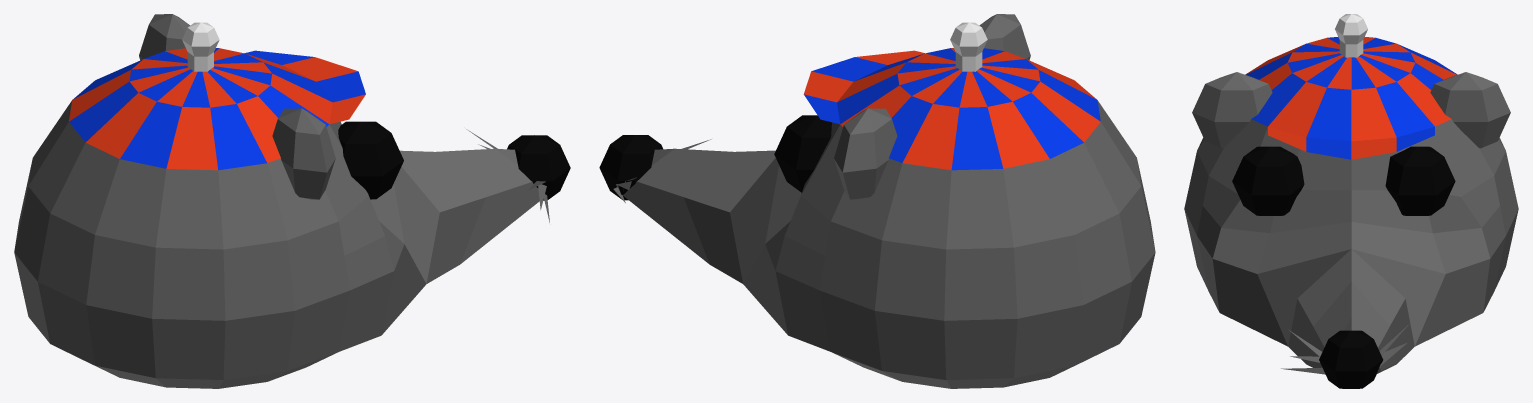
Rendered from Ratzkopter.glb.
3 views of the same model, side by side, from view 1: azimuth 30°, elevation 25°; view 2: azimuth 150°, elevation 25°; view 3: azimuth 270°, elevation 25° (orthographic). The views are drawn at different scales.
Parts seen in each view (by area): view 1: Sphere, Sphere.002, Sphere.001, Sphere.003, Sphere.004; view 2: Sphere, Sphere.002, Sphere.001, Sphere.003, Sphere.004; view 3: Sphere, Sphere.002, Sphere.001, Sphere.003, Sphere.004.
Part boxes in pixels (x1,y1,x2,y2): Sphere: (14, 48, 549, 388); Sphere.002: (139, 14, 335, 199); Sphere.001: (338, 121, 403, 199); Sphere.003: (507, 135, 570, 200); Sphere.004: (182, 22, 219, 71); Sphere: (613, 48, 1155, 388); Sphere.002: (834, 14, 1030, 199); Sphere.001: (774, 115, 831, 192); Sphere.003: (599, 135, 662, 200); Sphere.004: (950, 22, 987, 71); Sphere: (1184, 37, 1518, 374); Sphere.002: (1192, 72, 1510, 148); Sphere.001: (1232, 146, 1455, 215); Sphere.003: (1319, 330, 1383, 388); Sphere.004: (1335, 14, 1367, 57).
Bounding box in the file's own units: 3.21 × 1.96 × 2.
